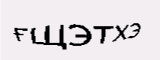Р: (106, 17, 120, 39)
С: (47, 15, 68, 41), (95, 20, 107, 39), (88, 18, 96, 40)
Щ: (67, 17, 86, 37)
